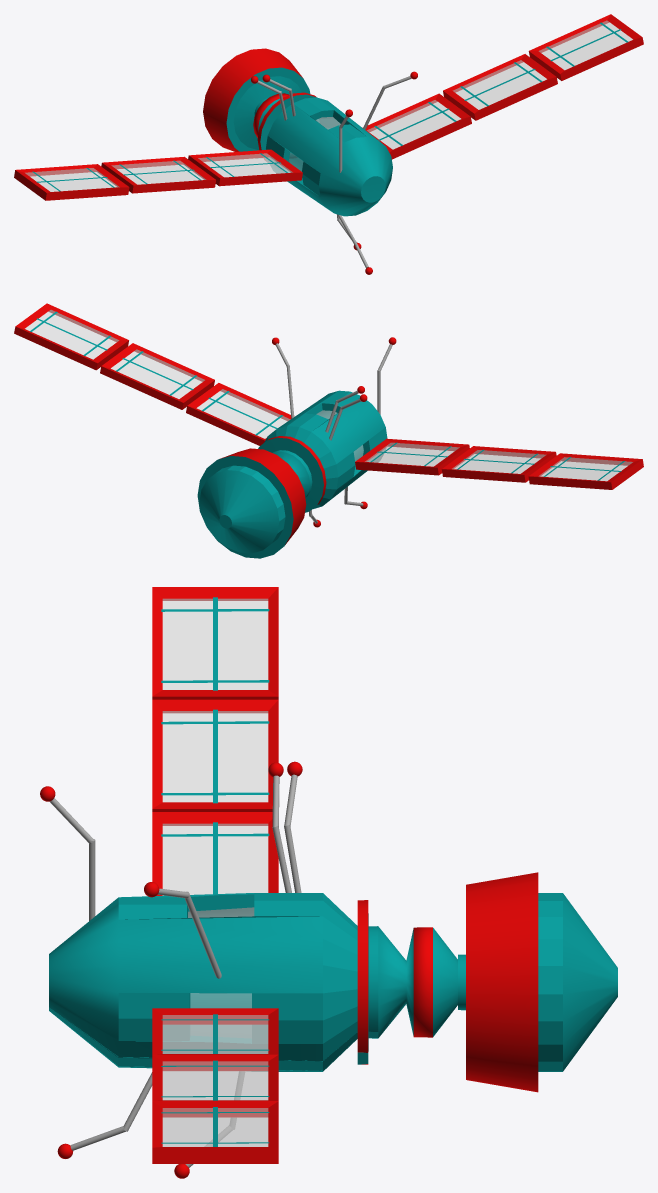
File: Spaceship_2_Combined.fbx
3 renders of one model, top to bottom at view 1: azimuth 30°, elevation 25°; view 2: azimuth 150°, elevation 25°; view 3: azimuth 270°, elevation 25°, orthographic. The views are drawn at different scales.
Parts seen in each view (by area): view 1: pCube7; view 2: pCube7; view 3: pCube7.
Part boxes in pixels (x1,y1,x2,y2): pCube7: (14, 14, 643, 274); pCube7: (14, 303, 643, 558); pCube7: (40, 587, 617, 1178).
Size of the model in its own units: 116 by 32.55 by 48.67.
